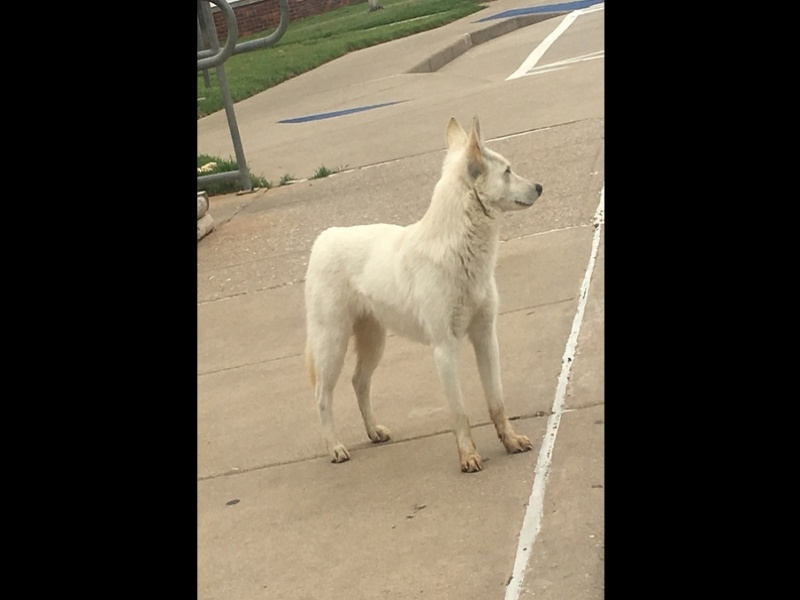dog: (297, 105, 560, 475)
